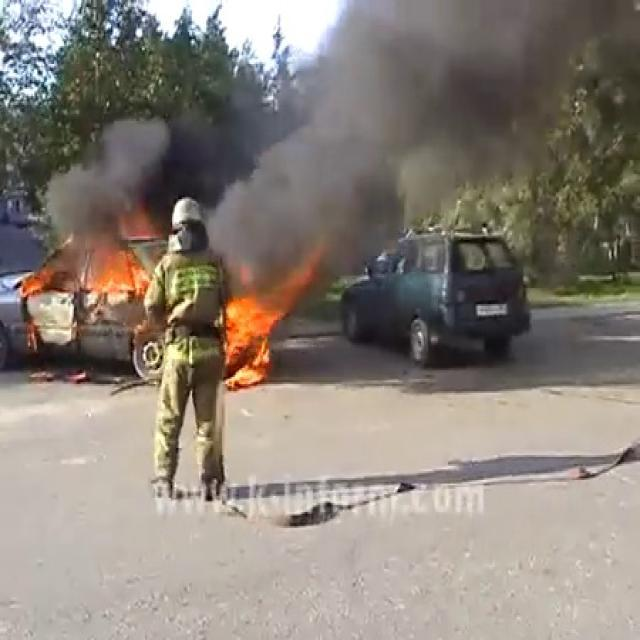Fire: (20, 239, 162, 305), (216, 288, 286, 384)
Smoke: (213, 0, 639, 261), (38, 98, 186, 252)
